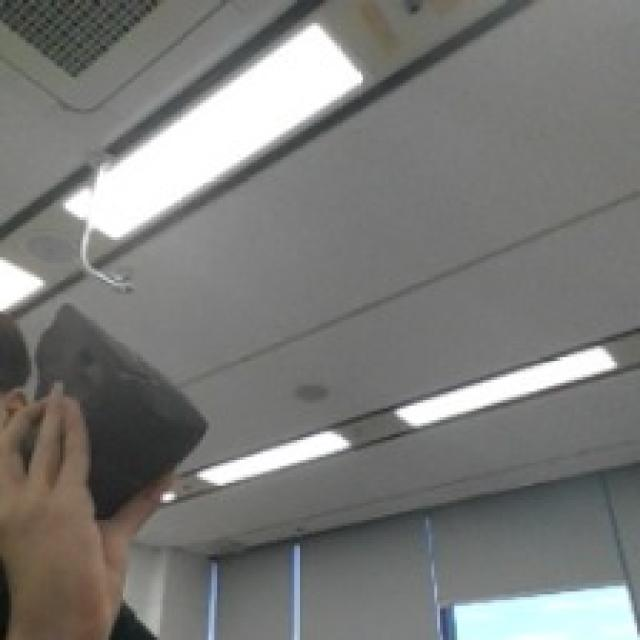shoe: (41, 298, 211, 494)
